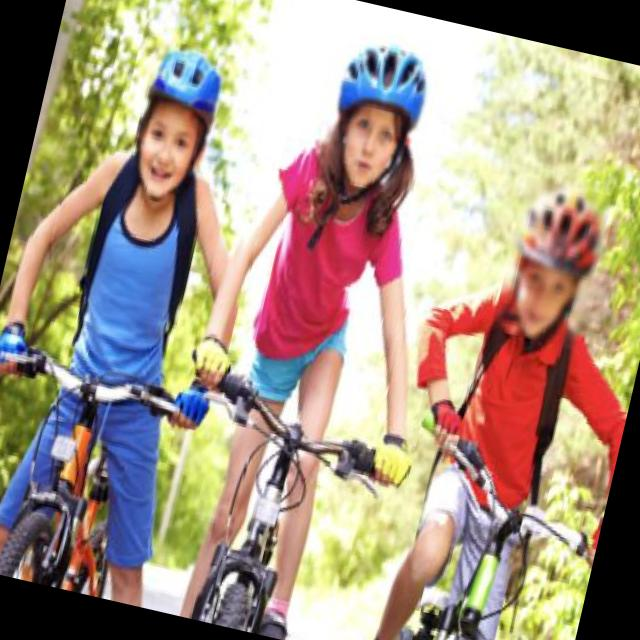With Helmet: (492, 177, 612, 351), (312, 37, 440, 194), (124, 38, 232, 211)
